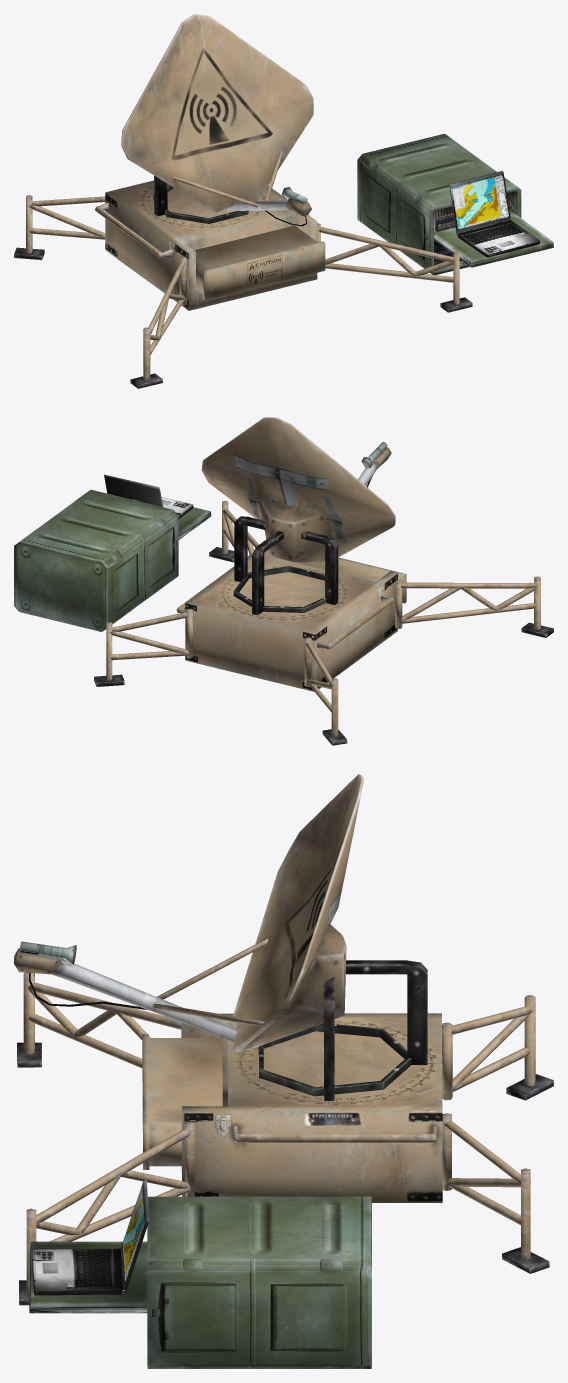
File: Mobile Comms.fbx
3 views of the same model, one above another, from view 1: azimuth 30°, elevation 25°; view 2: azimuth 150°, elevation 25°; view 3: azimuth 270°, elevation 25° (orthographic). The views are drawn at different scales.
Parts seen in each view (by area): view 1: Comms__Dish, FlightCase, Laptop; view 2: Comms__Dish, FlightCase, Laptop; view 3: Comms__Dish, FlightCase, Laptop.
Boxes of the visible parts, x1,y1,x2,y2 form: Comms__Dish: (14,14,472,388); FlightCase: (357,133,553,274); Laptop: (449,171,539,257); Comms__Dish: (94,417,553,745); FlightCase: (14,489,211,631); Laptop: (104,474,193,518); Comms__Dish: (14,774,553,1305); FlightCase: (29,1196,371,1368); Laptop: (31,1180,149,1295).
Bounding box in the file's own units: 3.85 × 2.2 × 2.7.
Materials: 3 (3 with a texture image).
